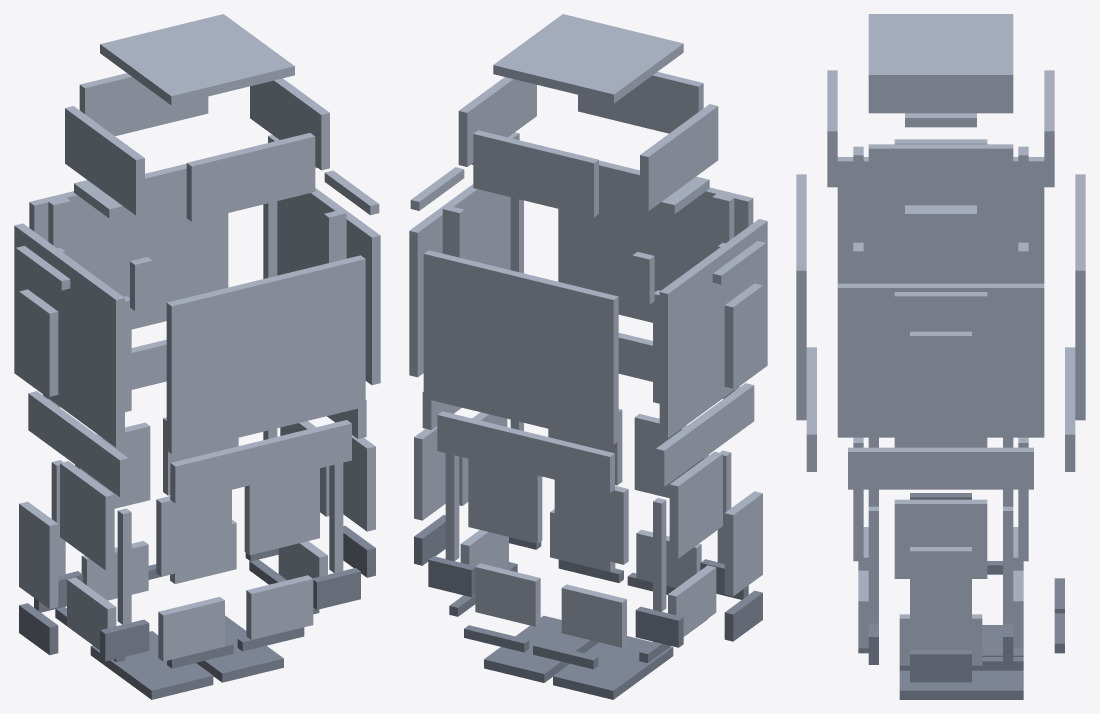
Rendered from voxel_player_plate.glb.
3 renders of one model, left to right at view 1: azimuth 30°, elevation 25°; view 2: azimuth 150°, elevation 25°; view 3: azimuth 270°, elevation 25°, orthographic. The views are drawn at different scales.
Parts seen in each view (by area): view 1: torso_my, torso_py, torso_mx, head_pz, head_my, pelvis_my, torso_px, thigh_l_my, thigh_r_my, head_mx, head_py, pelvis_mx (+35 smaller); view 2: torso_py, torso_my, torso_mx, head_pz, head_py, pelvis_py, torso_px, thigh_l_py, thigh_r_py, head_mx, head_my, pelvis_mx (+36 smaller); view 3: torso_px, torso_mx, head_pz, head_px, pelvis_px, uarm_r_px, thigh_r_px, farm_r_px, head_mx, foot_r_mz, torso_my, torso_py (+27 smaller).
Part boxes in pixels (box(x1,y1,x2,y2)): torso_my: box(166, 255, 365, 453); torso_py: box(29, 163, 228, 329); torso_mx: box(14, 223, 124, 447); head_pz: box(100, 14, 294, 105); head_my: box(186, 133, 315, 221); pelvis_my: box(170, 420, 351, 503); torso_px: box(277, 188, 380, 385); thigh_l_my: box(156, 490, 231, 576); thigh_r_my: box(244, 468, 319, 555); head_mx: box(65, 106, 144, 215); head_py: box(79, 73, 208, 136); pelvis_mx: box(28, 391, 128, 496); torso_py: box(423, 250, 618, 444); torso_my: box(558, 160, 753, 322); torso_mx: box(659, 219, 767, 438); head_pz: box(493, 14, 683, 103); head_py: box(473, 130, 598, 217); pelvis_py: box(437, 411, 614, 492); torso_px: box(409, 184, 510, 377); thigh_l_py: box(554, 480, 628, 564); thigh_r_py: box(468, 458, 542, 543); head_mx: box(640, 104, 718, 211); head_my: box(578, 72, 703, 133); pelvis_mx: box(656, 383, 754, 486); torso_px: box(837, 283, 1044, 437); torso_mx: box(837, 157, 1044, 283); head_pz: box(868, 14, 1013, 84); head_px: box(868, 144, 1013, 204); pelvis_px: box(848, 447, 1033, 489); uarm_r_px: box(910, 331, 971, 420); thigh_r_px: box(894, 499, 987, 578); farm_r_px: box(910, 547, 971, 635); head_mx: box(868, 84, 1013, 113); foot_r_mz: box(899, 670, 1023, 699); torso_my: box(796, 174, 806, 420); torso_py: box(1075, 174, 1085, 420).
Size of the model in its own units: 1.16 by 2.08 by 0.875.
